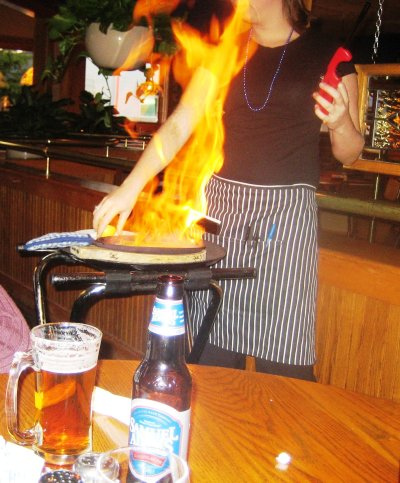fire: (91, 5, 271, 270)
